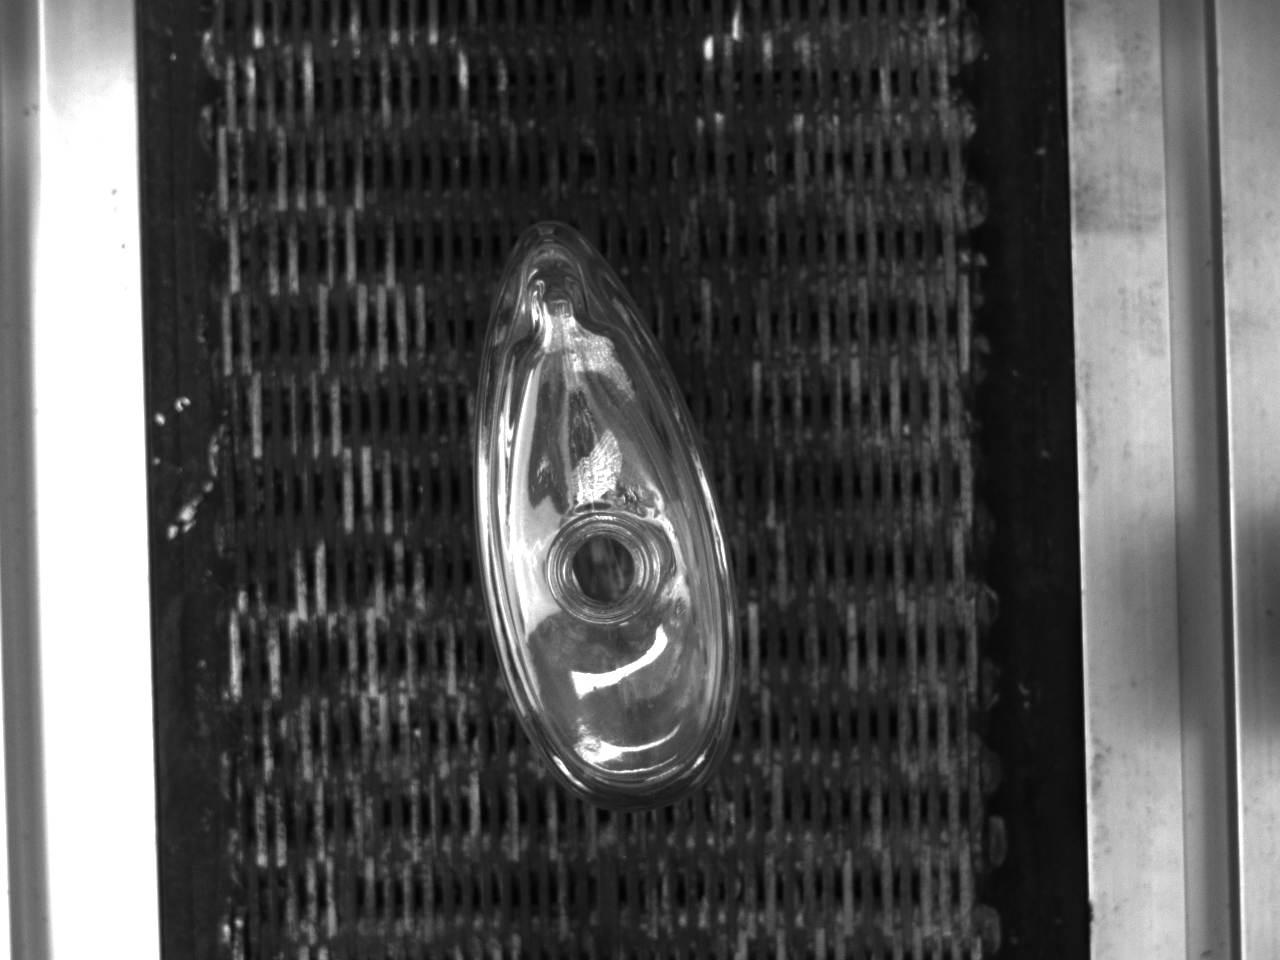bottleneck: (548, 512, 662, 625)
